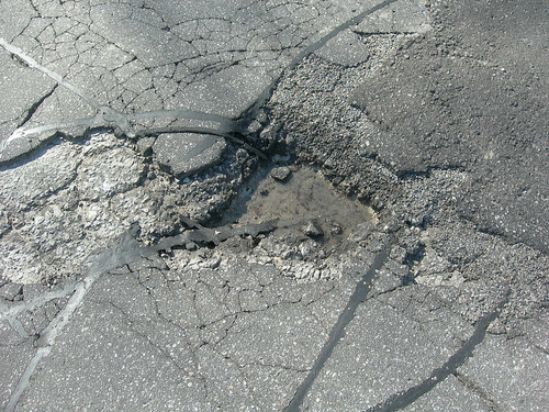pothole: (170, 121, 399, 277)
